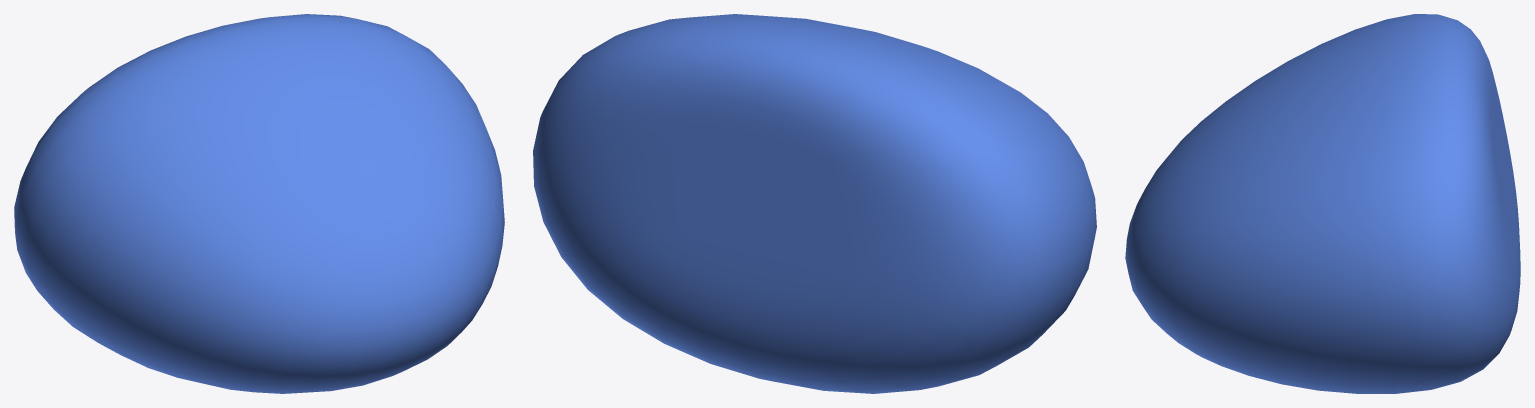
Rendered from Lvl1Slime.glb.
The picture shows the model from 3 angles, left to right: view 1: azimuth 30°, elevation 25°; view 2: azimuth 150°, elevation 25°; view 3: azimuth 270°, elevation 25°; orthographic projection. The views are drawn at different scales.
Visible parts, largest first — view 1: Cube; view 2: Cube; view 3: Cube.
Boxes of the visible parts, x1,y1,x2,y2 form: Cube: [14, 14, 504, 393]; Cube: [533, 14, 1096, 393]; Cube: [1125, 14, 1520, 393].
Size of the model in its own units: 1.58 by 1.01 by 1.2.
